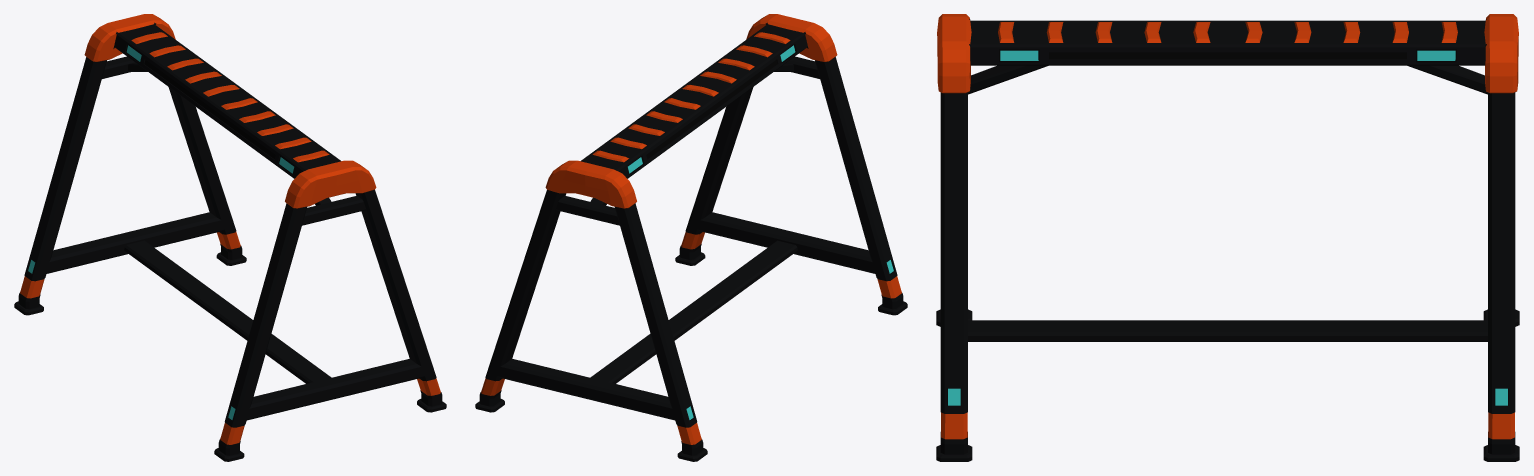
The model's file is SM_Safety_Barrier.obj.
3 views of the same model, side by side, from view 1: azimuth 30°, elevation 25°; view 2: azimuth 150°, elevation 25°; view 3: azimuth 270°, elevation 25° (orthographic). The views are drawn at different scales.
Visible parts, largest first — view 1: SM_Safety_Barrier; view 2: SM_Safety_Barrier; view 3: SM_Safety_Barrier.
Part boxes in pixels (bbox=[...]): SM_Safety_Barrier: bbox=[14, 14, 446, 461]; SM_Safety_Barrier: bbox=[475, 14, 907, 461]; SM_Safety_Barrier: bbox=[936, 14, 1519, 461].
Bounding box in the file's own units: 1.03 × 1.16 × 1.71.
